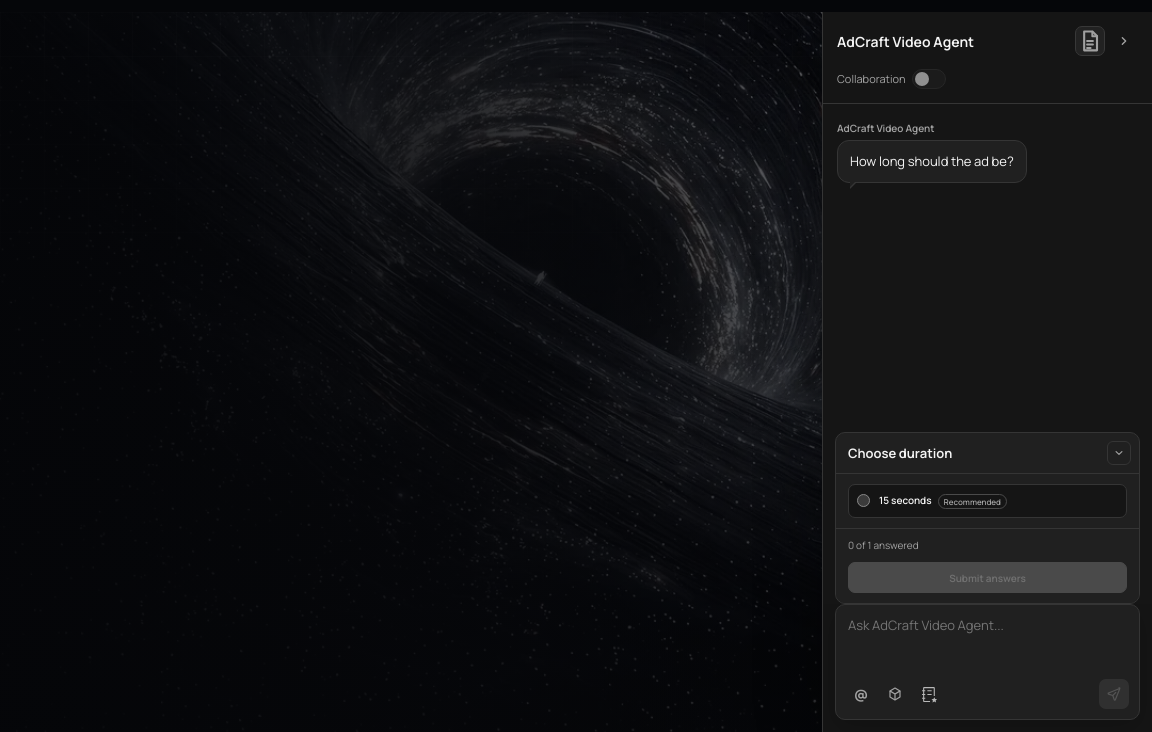
AgentCanvasChatPanel decision dock overlay › collapses the decision dock into an in-flow chip and re-expands it on demand
The image size is (1152, 732).
Click the button named "Collapse decision card" at {"x": 1119, "y": 453}, box top-left (1107, 441), bottom-right (1131, 465)
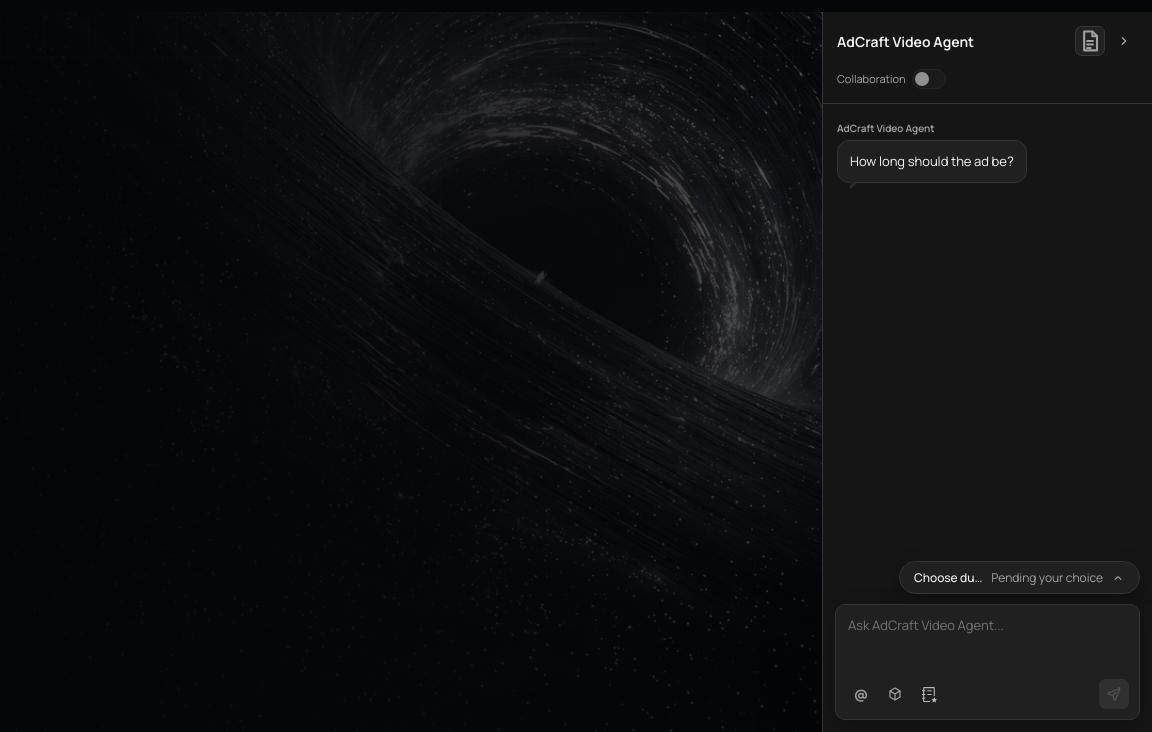
expect the button "Choose duration Pending your choice" is shown: met
Click the button "Choose duration Pending your choice" at {"x": 1020, "y": 578}, box top-left (899, 561), bottom-right (1140, 594)
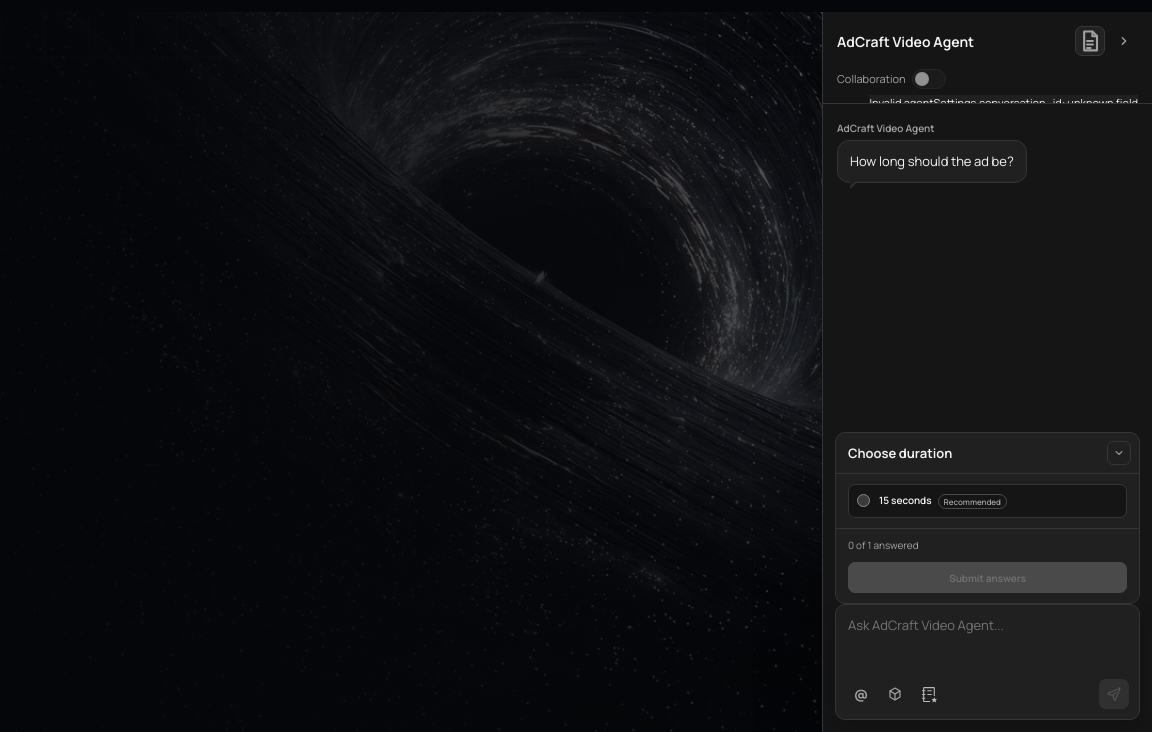
expect the button named "Collapse decision card" is shown: met, box top-left (1107, 441), bottom-right (1131, 465)
